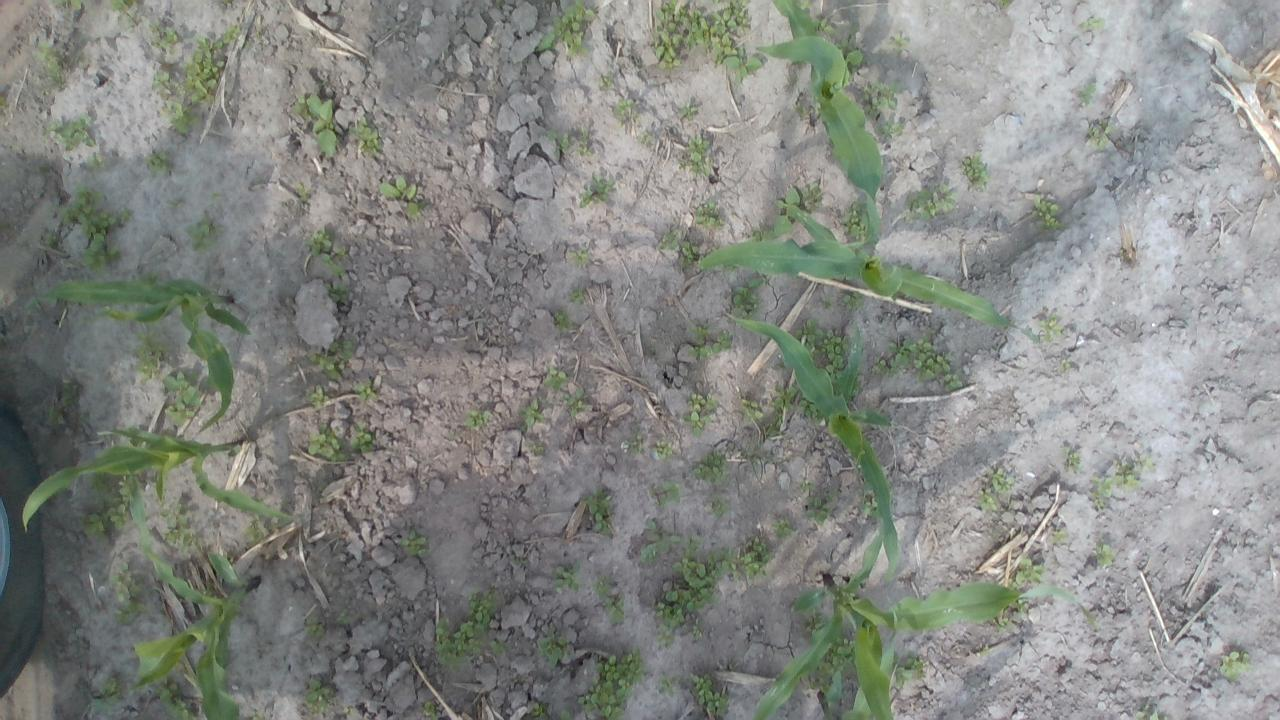Maize: (752, 528, 1092, 720), (696, 203, 1043, 348), (731, 310, 900, 584), (24, 272, 250, 436), (124, 473, 261, 720), (752, 0, 884, 250), (22, 424, 295, 535)
Weeds: (578, 647, 646, 720), (704, 0, 762, 84), (78, 474, 132, 547), (653, 590, 720, 647), (798, 633, 858, 692), (536, 0, 596, 58), (672, 536, 738, 588), (58, 182, 117, 238), (180, 34, 224, 108), (434, 618, 486, 672), (110, 560, 148, 626), (156, 502, 201, 556), (650, 0, 684, 69), (305, 93, 340, 158), (818, 328, 850, 398), (905, 182, 956, 222), (164, 371, 202, 424), (378, 176, 426, 217), (688, 670, 729, 718), (134, 330, 170, 384), (80, 232, 120, 280), (154, 677, 198, 720), (46, 117, 94, 154), (910, 336, 950, 380), (682, 392, 719, 436), (740, 535, 776, 579), (33, 39, 66, 86), (308, 424, 346, 464), (585, 487, 616, 536), (860, 78, 900, 114), (639, 533, 682, 566), (772, 189, 801, 237), (1029, 194, 1065, 232), (1006, 557, 1044, 593), (732, 276, 762, 320), (692, 450, 728, 486), (960, 150, 990, 192), (794, 319, 824, 361), (1218, 648, 1256, 681), (304, 675, 334, 716), (144, 16, 178, 52), (90, 676, 122, 714), (686, 133, 714, 176), (167, 100, 200, 136), (189, 215, 220, 253), (351, 115, 380, 155), (578, 175, 612, 209), (537, 633, 572, 666), (834, 38, 864, 76), (841, 200, 868, 242), (466, 589, 498, 624), (892, 656, 927, 688), (684, 8, 709, 49), (554, 559, 584, 592), (305, 350, 340, 378), (1085, 119, 1116, 150), (1036, 312, 1066, 344), (803, 492, 833, 524), (693, 200, 722, 232), (544, 129, 574, 159), (886, 338, 916, 368), (612, 98, 641, 128), (772, 378, 796, 413), (350, 422, 376, 454), (862, 479, 883, 518), (519, 396, 543, 430), (304, 229, 334, 256), (321, 246, 348, 276), (653, 481, 683, 508), (1091, 476, 1114, 510), (798, 396, 824, 425), (399, 530, 427, 556), (542, 366, 568, 393), (1113, 462, 1138, 490), (1093, 542, 1118, 570), (990, 466, 1014, 495), (142, 150, 168, 176), (325, 281, 355, 303), (242, 520, 267, 545), (606, 593, 626, 624), (804, 607, 824, 638), (1060, 444, 1082, 472), (1132, 702, 1166, 720), (565, 386, 586, 415), (678, 239, 699, 268), (574, 126, 593, 158), (688, 343, 721, 361), (840, 290, 866, 311), (789, 101, 821, 118), (306, 384, 329, 407), (1076, 82, 1098, 106), (329, 339, 354, 360), (804, 183, 823, 210), (352, 380, 376, 401), (740, 396, 761, 420), (418, 699, 442, 720), (978, 487, 998, 512), (1010, 596, 1030, 621), (465, 408, 491, 427), (991, 606, 1010, 632), (686, 323, 712, 342), (878, 119, 904, 138), (874, 357, 897, 378), (550, 309, 572, 330), (304, 614, 322, 639), (590, 574, 610, 596), (150, 68, 172, 88), (568, 246, 590, 266), (771, 518, 794, 537), (711, 493, 730, 516), (811, 14, 832, 34), (676, 102, 698, 121), (1080, 16, 1106, 32), (626, 430, 644, 453), (886, 31, 910, 48), (942, 372, 962, 392), (659, 231, 680, 250), (752, 228, 778, 243), (52, 0, 84, 12), (222, 24, 241, 44), (1049, 527, 1069, 546), (488, 636, 507, 656), (658, 676, 676, 697), (47, 407, 66, 426), (655, 439, 674, 458), (766, 417, 784, 437), (528, 702, 548, 720), (1136, 455, 1155, 473), (62, 383, 75, 409), (568, 287, 586, 305), (596, 72, 614, 89), (333, 608, 352, 624), (290, 93, 306, 112), (110, 0, 128, 16), (717, 330, 731, 350), (86, 154, 105, 168), (818, 296, 834, 312), (45, 230, 59, 248), (118, 207, 134, 222), (558, 705, 574, 720), (530, 442, 546, 456), (140, 272, 160, 282), (850, 376, 861, 394), (800, 479, 816, 491), (1058, 356, 1072, 369), (640, 132, 652, 146), (248, 710, 264, 720), (796, 0, 811, 10), (298, 189, 308, 202), (996, 0, 1012, 8), (646, 519, 657, 530), (210, 190, 222, 200)
